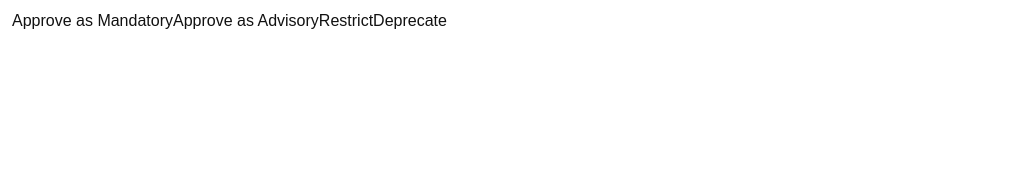
BusinessKnowledgeStatusActions › shows the backend's 409 conflict message when the atomic status write loses a race
This screenshot has width=1026, height=172.
Click the button "Approve as Advisory". click: [246, 21]
box: [173,12,319,30]
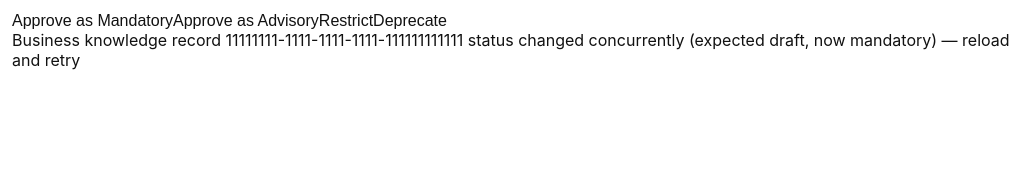
Now the message shows "changed concurrently", box [12,30,1010,70]
